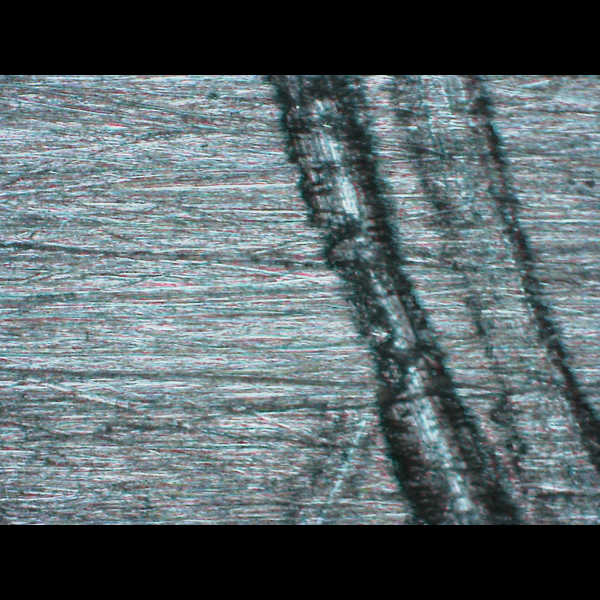d: (263, 75, 598, 518)
